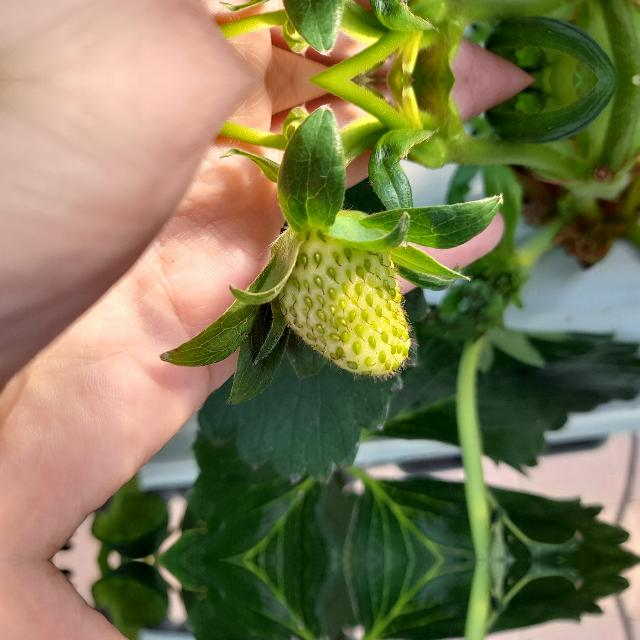Health_25: (276, 210, 410, 376)
